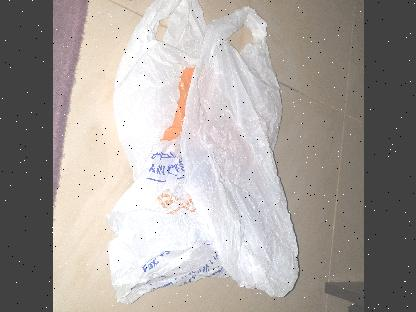Others: (104, 0, 299, 304)
